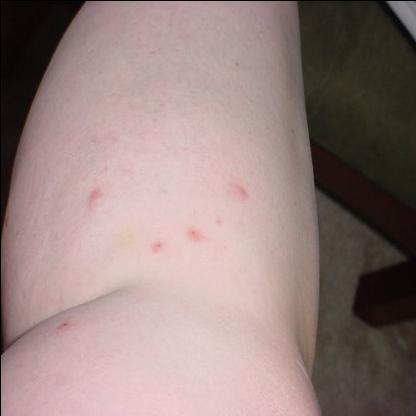Bed Bug: (81, 183, 107, 214), (223, 176, 249, 202), (46, 314, 76, 333), (142, 234, 168, 254), (180, 223, 204, 244), (206, 213, 228, 224)
